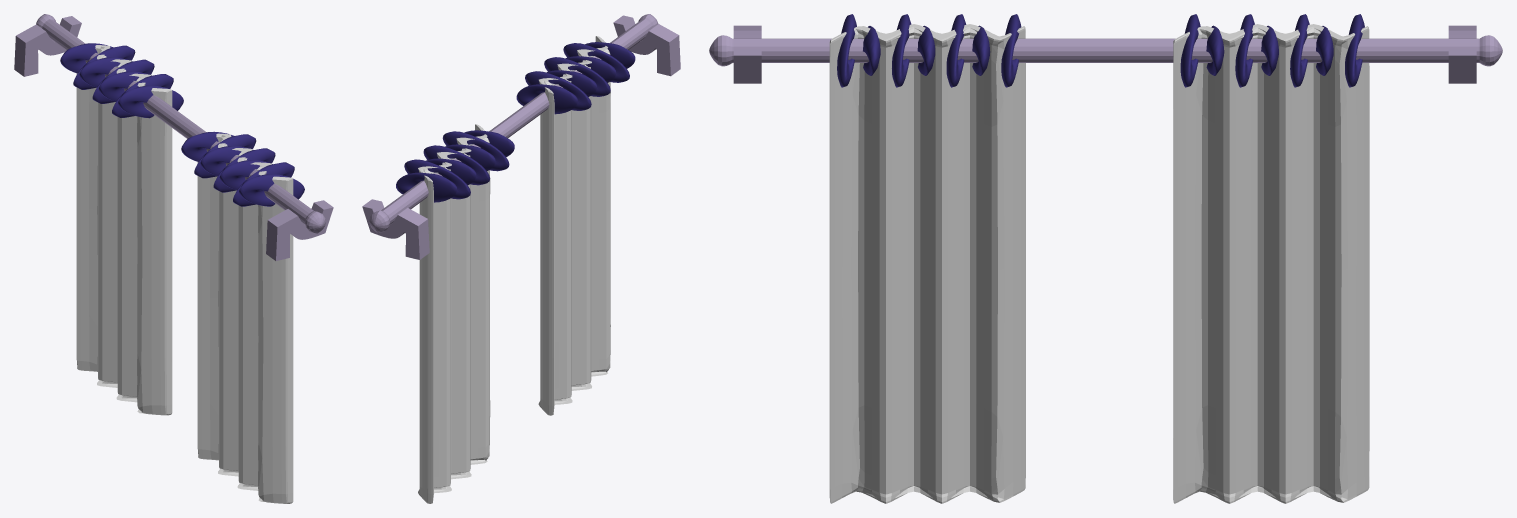
File: curtain_rod.glb
3 renders of one model, left to right at view 1: azimuth 30°, elevation 25°; view 2: azimuth 150°, elevation 25°; view 3: azimuth 270°, elevation 25°, orthographic. The views are drawn at different scales.
Parts seen in each view (by area): view 1: Curtain.001, Curtain, curtain rod, curtain holder, curtain holder.001, Torus.006, Torus.013, Torus.009, Torus.011, Torus.004, Torus.002, Torus.007 (+7 smaller); view 2: Curtain, Curtain.001, curtain rod, curtain holder.001, curtain holder, Torus, Torus.007, Torus.001, Torus.003, Torus.008, Torus.005, Torus.012 (+7 smaller); view 3: Curtain, Curtain.001, curtain rod, curtain holder, curtain holder.001, Torus.006, Torus.013, Torus, Torus.007, Torus.011, Torus.002, Torus.004 (+1 smaller).
Part boxes in pixels (x1,y1,x2,y2): Curtain.001: (76,45,172,415); Curtain: (197,133,293,503); curtain rod: (36,14,325,233); curtain holder: (266,200,333,260); curtain holder.001: (14,16,81,76); Torus.006: (239,174,304,206); Torus.013: (118,85,183,118); Torus.009: (79,57,132,87); Torus.011: (99,71,151,101); Torus.004: (219,160,272,189); Torus.002: (200,146,253,175); Torus.007: (60,43,113,73); Curtain: (538,36,610,415); Curtain.001: (418,124,490,503); curtain rod: (369,14,658,232); curtain holder.001: (362,199,429,259); curtain holder: (613,15,680,76); Torus: (516,84,577,114); Torus.007: (396,172,456,202); Torus.001: (525,71,591,110); Torus.003: (544,57,610,96); Torus.008: (404,159,470,199); Torus.005: (563,43,629,82); Torus.012: (442,131,509,171); Curtain: (829,24,1025,503); Curtain.001: (1173,24,1369,503); curtain rod: (709,35,1502,66); curtain holder: (733,25,761,83); curtain holder.001: (1448,25,1476,83); Torus.006: (837,14,856,87); Torus.013: (1180,14,1200,87); Torus: (1001,14,1021,87); Torus.007: (1345,14,1364,87); Torus.011: (1235,14,1254,87); Torus.002: (946,14,966,87); Torus.004: (892,14,911,87).
Size of the model in its own units: 0.2572 by 1.18 by 1.82.
